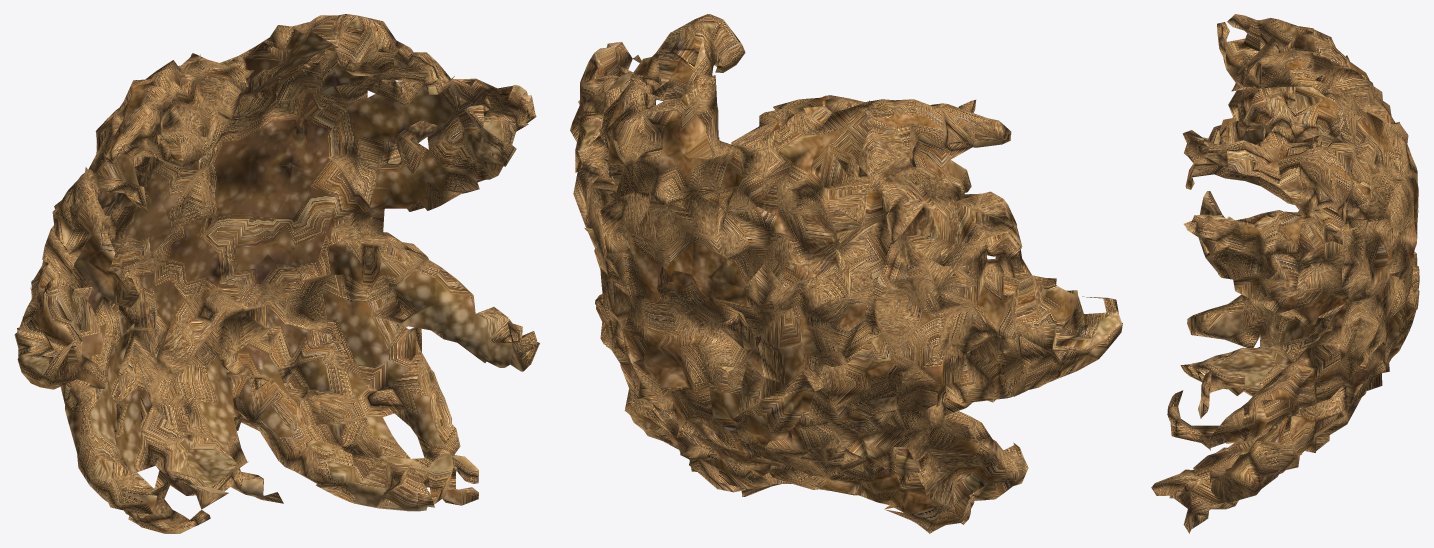
Rendered from starfish-pycnopodia.glb.
3 renders of one model, left to right at view 1: azimuth 30°, elevation 25°; view 2: azimuth 150°, elevation 25°; view 3: azimuth 270°, elevation 25°, orthographic. The views are drawn at different scales.
Visible parts, largest first — view 1: Pycnopodia_helianthoides-150k; view 2: Pycnopodia_helianthoides-150k; view 3: Pycnopodia_helianthoides-150k.
Part boxes in pixels (x1=…): Pycnopodia_helianthoides-150k: x1=14, y1=14, x2=539, y2=533; Pycnopodia_helianthoides-150k: x1=570, y1=14, x2=1122, y2=533; Pycnopodia_helianthoides-150k: x1=1151, y1=14, x2=1419, y2=533.
Size of the model in its own units: 0.1987 by 0.1765 by 0.1031.
1 material, 1 textured.
